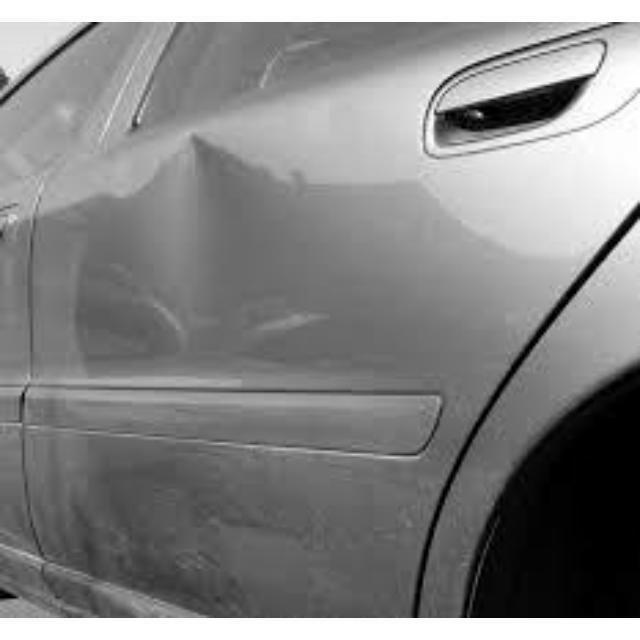doorouter-dent: (86, 127, 487, 445)
